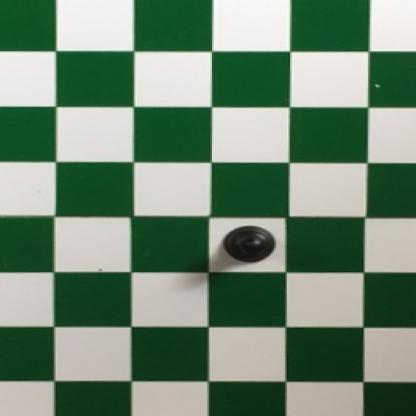black-pawn: (220, 224, 276, 264)
